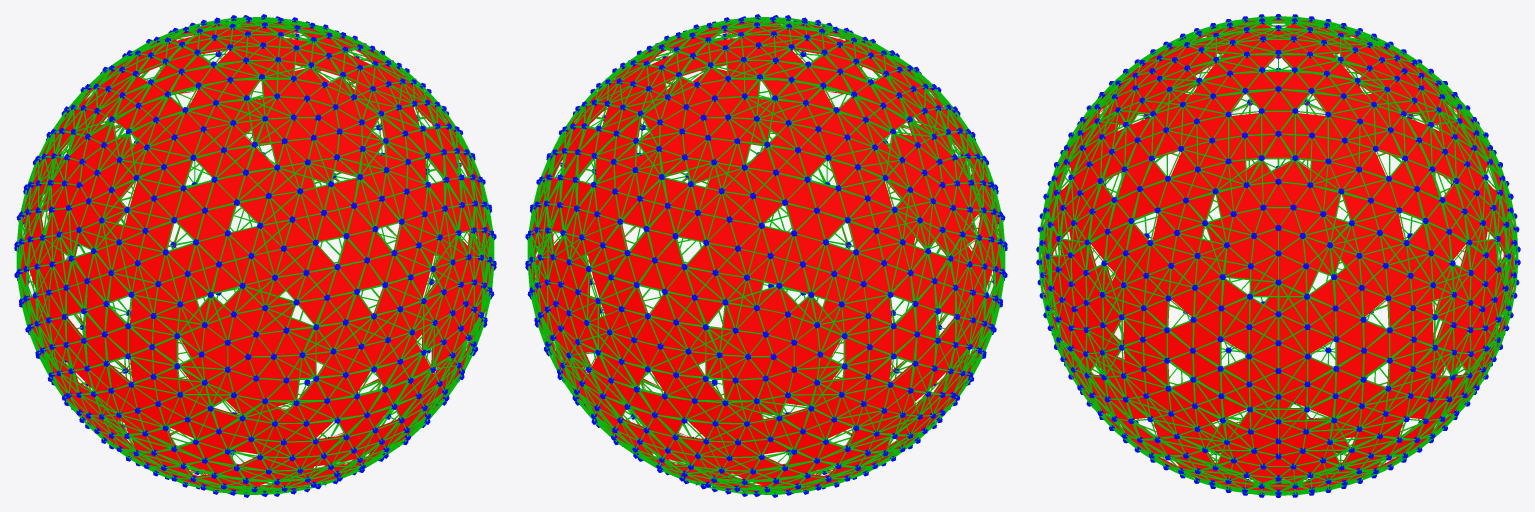
The model's file is GoToSphere.glb.
The picture shows the model from 3 angles, left to right: view 1: azimuth 30°, elevation 25°; view 2: azimuth 150°, elevation 25°; view 3: azimuth 270°, elevation 25°; orthographic projection.
Size of the model in its own units: 2.04 by 2.04 by 2.04.
